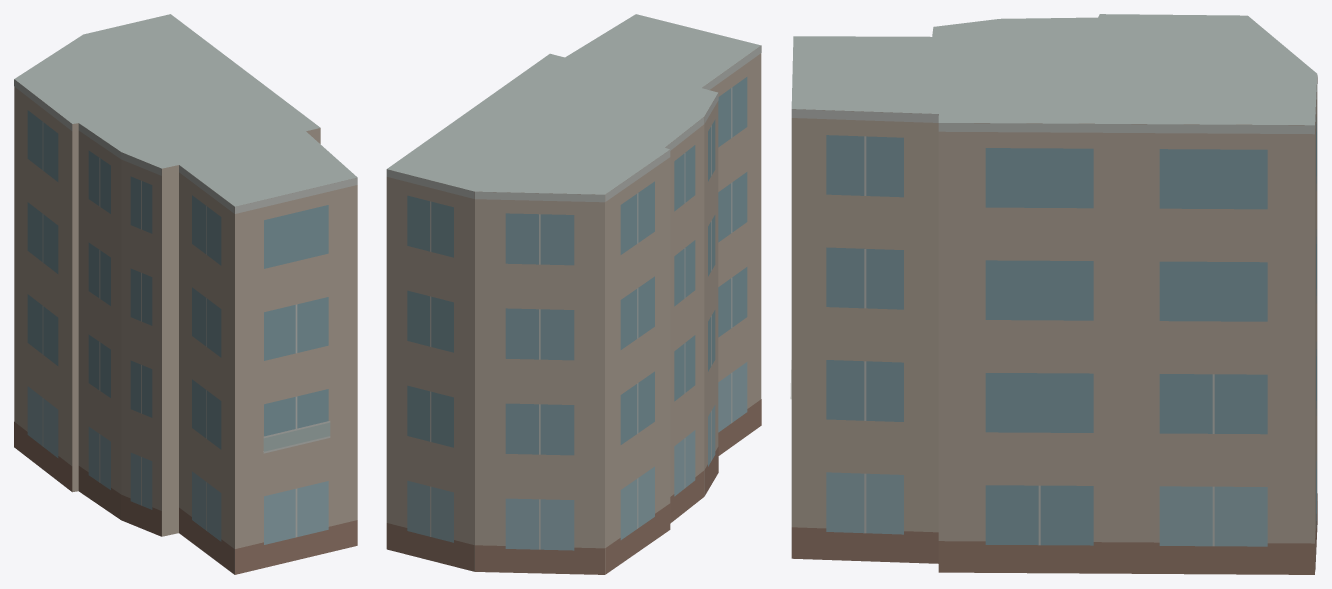
Rendered from survey-upis-32779959.glb.
The picture shows the model from 3 angles, left to right: view 1: azimuth 30°, elevation 25°; view 2: azimuth 150°, elevation 25°; view 3: azimuth 270°, elevation 25°; orthographic projection. The views are drawn at different scales.
Parts seen in each view (by area): view 1: survey-upis-32779959.tmp; view 2: survey-upis-32779959.tmp; view 3: survey-upis-32779959.tmp.
Boxes of the visible parts, x1,y1,x2,y2 form: survey-upis-32779959.tmp: [14, 14, 357, 574]; survey-upis-32779959.tmp: [386, 14, 761, 574]; survey-upis-32779959.tmp: [790, 14, 1317, 574].
Size of the model in its own units: 6.48 by 12.2 by 12.96.
